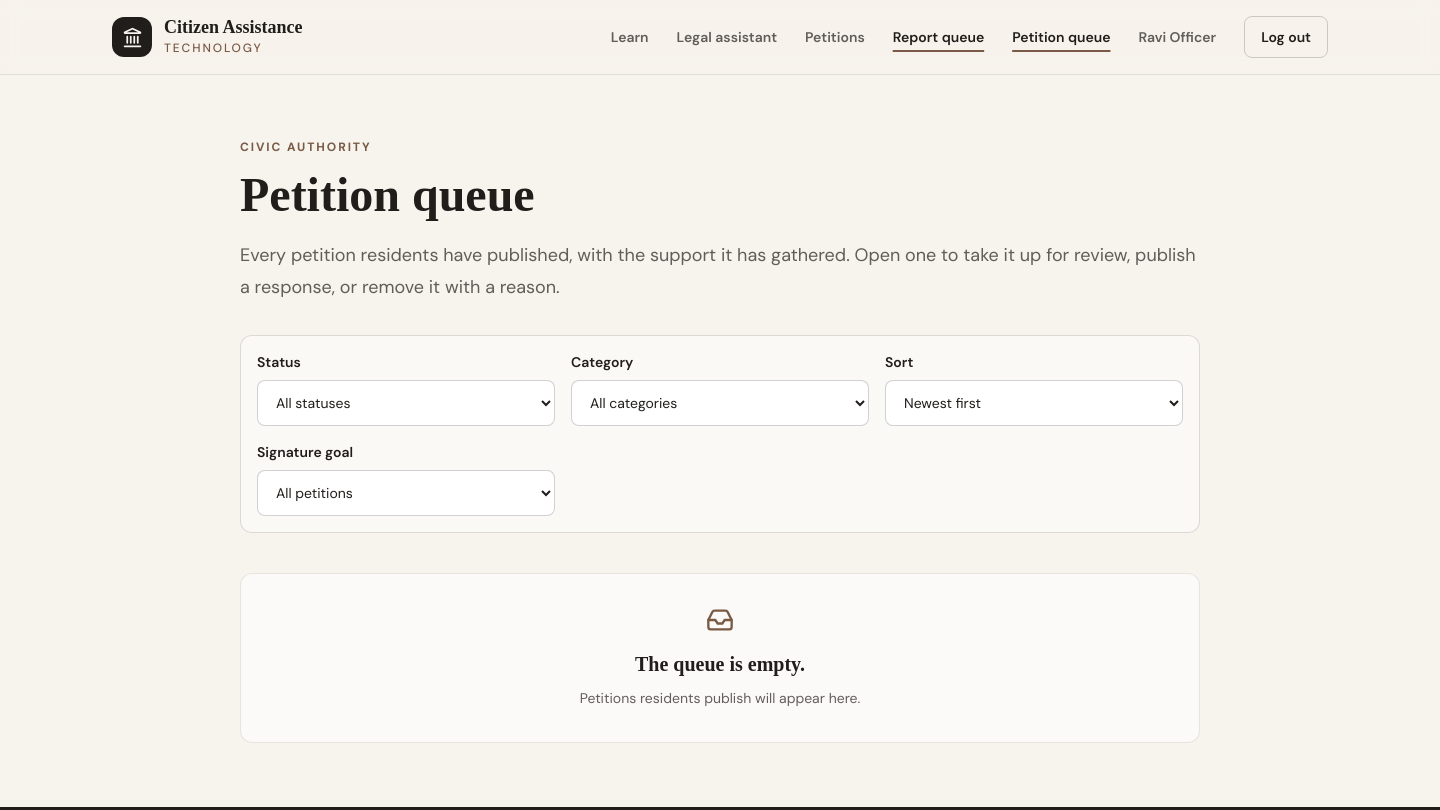
Test: AuthorityPetitionsPage › shows a loading state and then an empty state when nothing matches
The image size is (1440, 810).
Expected: the text "The queue is empty." is shown, [635,653,805,675]
Note: …and an unmatched filter as an unmatched filter.
Select "Under review" in the dropdown labelled "Status" at (406, 403), box [257,380,555,426]
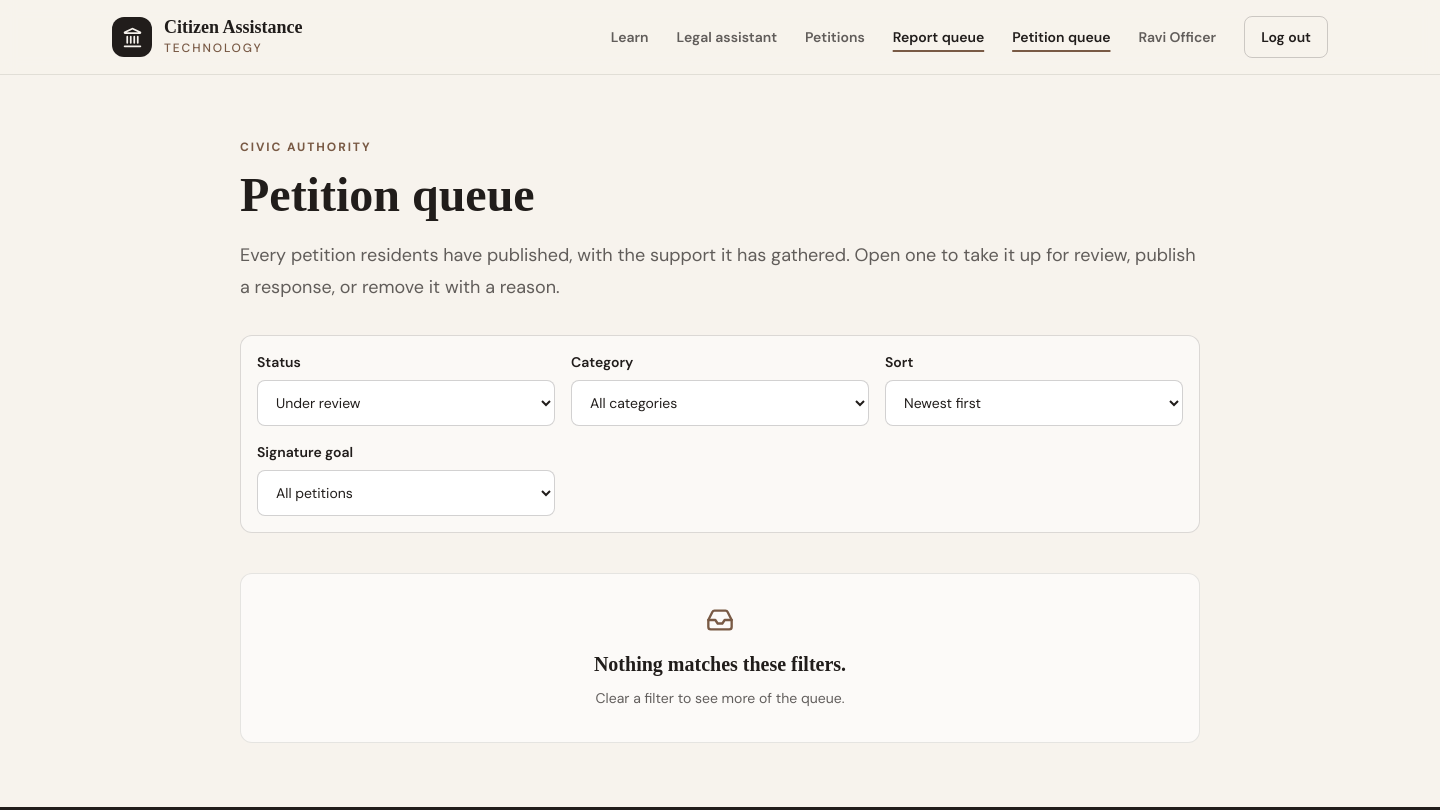
Expected: the text "Nothing matches these filters." is shown, [594,653,846,675]
